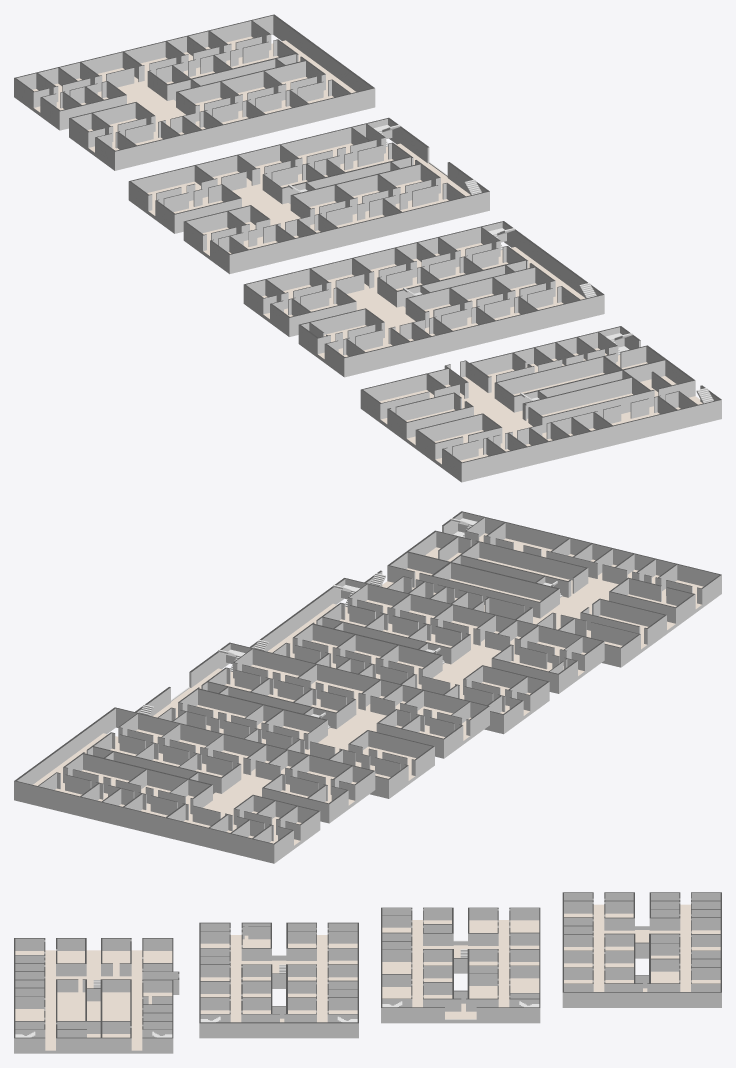
The picture shows the model from 3 angles, top to bottom: view 1: azimuth 30°, elevation 25°; view 2: azimuth 150°, elevation 25°; view 3: azimuth 270°, elevation 25°; orthographic projection. The views are drawn at different scales.
Parts seen in each view (by area): view 1: 2ND FLOOR, 4TH FLOOR, 3RD FLOOR, 1ST FLOOR, 116227; view 2: 4TH FLOOR, 2ND FLOOR, 3RD FLOOR, 1ST FLOOR, 116227; view 3: 3RD FLOOR, 2ND FLOOR, 4TH FLOOR, 1ST FLOOR, 116227.
Part boxes in pixels (x1,y1,x2,y2): 2ND FLOOR: (243, 221, 604, 377); 4TH FLOOR: (14, 14, 375, 170); 3RD FLOOR: (128, 117, 489, 274); 1ST FLOOR: (360, 326, 721, 482); 116227: (379, 348, 702, 464); 4TH FLOOR: (14, 707, 375, 863); 2ND FLOOR: (250, 578, 604, 734); 3RD FLOOR: (135, 642, 489, 798); 1ST FLOOR: (364, 511, 721, 667); 116227: (382, 533, 703, 649); 3RD FLOOR: (381, 907, 540, 1023); 2ND FLOOR: (199, 922, 358, 1038); 4TH FLOOR: (562, 892, 721, 1007); 1ST FLOOR: (14, 938, 179, 1053); 116227: (15, 950, 172, 1050).
Bounding box in the file's own units: 52.39 × 14.8 × 156.
